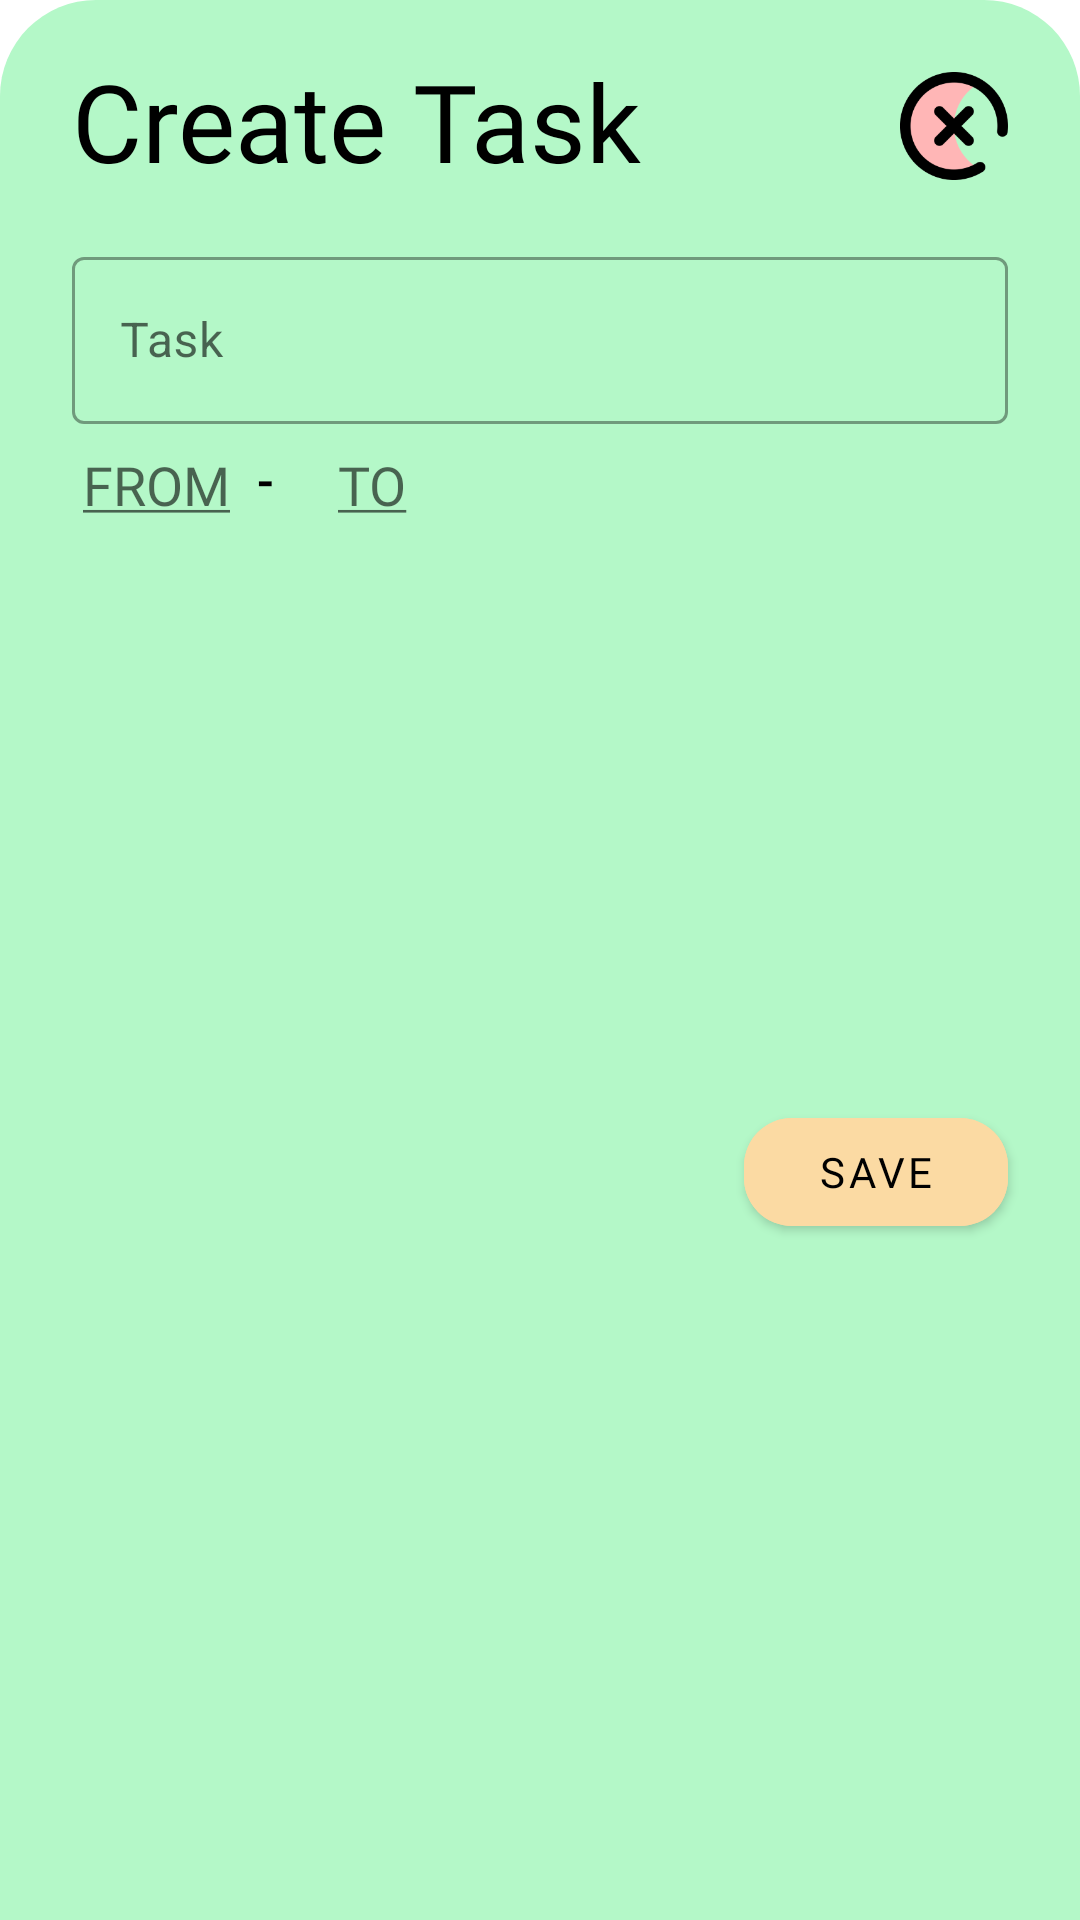

Screen size 1080×1920. Icon name, then its box in pixels as region(x1, y1, x2, y2):
close: region(900, 72, 1008, 180)
